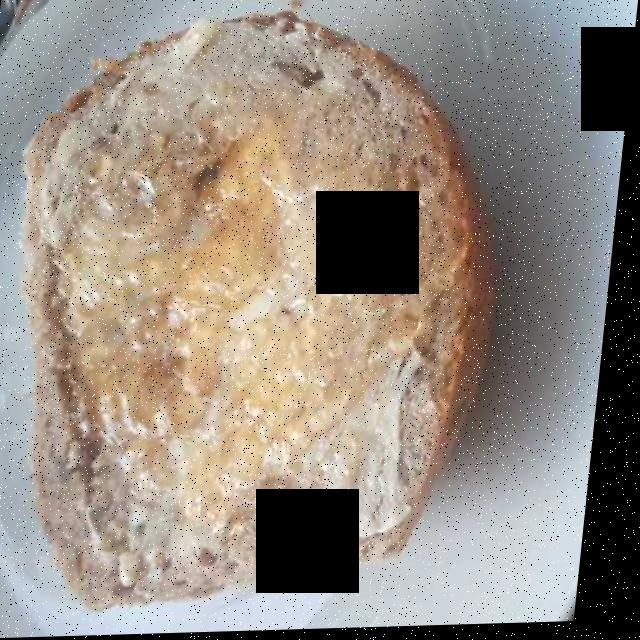bread-wholemeal: (27, 27, 492, 606)
butter: (71, 114, 435, 549)
jam: (81, 81, 414, 551)
